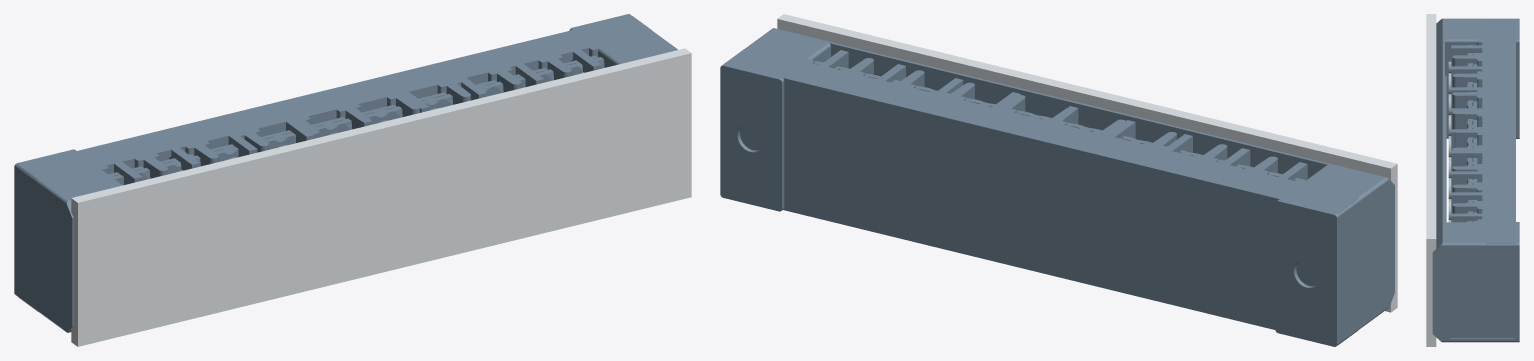
3 renders of one model, left to right at view 1: azimuth 30°, elevation 25°; view 2: azimuth 150°, elevation 25°; view 3: azimuth 270°, elevation 25°, orthographic. The views are drawn at different scales.
Visible parts, largest first — view 1: cover_001, factory_001, factory_062, insulation_000; view 2: insulation_000, factory_001, cover_001, factory_062; view 3: factory_001, factory_062, cover_001, insulation_000, insulation_029, insulation_025, insulation_033, insulation_005, insulation_037, insulation_009, insulation_013, insulation_017.
Boxes of the visible parts, <box> form: cover_001: <box>71,48,691,346</box>; factory_001: <box>14,14,677,330</box>; factory_062: <box>64,198,73,332</box>; insulation_000: <box>18,15,651,311</box>; insulation_000: <box>724,49,1357,344</box>; factory_001: <box>720,29,1386,346</box>; cover_001: <box>777,14,1397,312</box>; factory_062: <box>772,28,1394,309</box>; factory_001: <box>1445,18,1519,342</box>; factory_062: <box>1432,18,1446,342</box>; cover_001: <box>1426,14,1436,346</box>; insulation_000: <box>1486,18,1515,337</box>; insulation_029: <box>1451,171,1482,192</box>; insulation_025: <box>1451,150,1478,171</box>; insulation_033: <box>1451,192,1482,213</box>; insulation_005: <box>1451,45,1482,66</box>; insulation_037: <box>1451,213,1482,222</box>; insulation_009: <box>1451,66,1482,87</box>; insulation_013: <box>1451,87,1482,108</box>; insulation_017: <box>1451,108,1477,129</box>.
Bounding box in the file's own units: 0.1075 × 0.024 × 0.0187.
